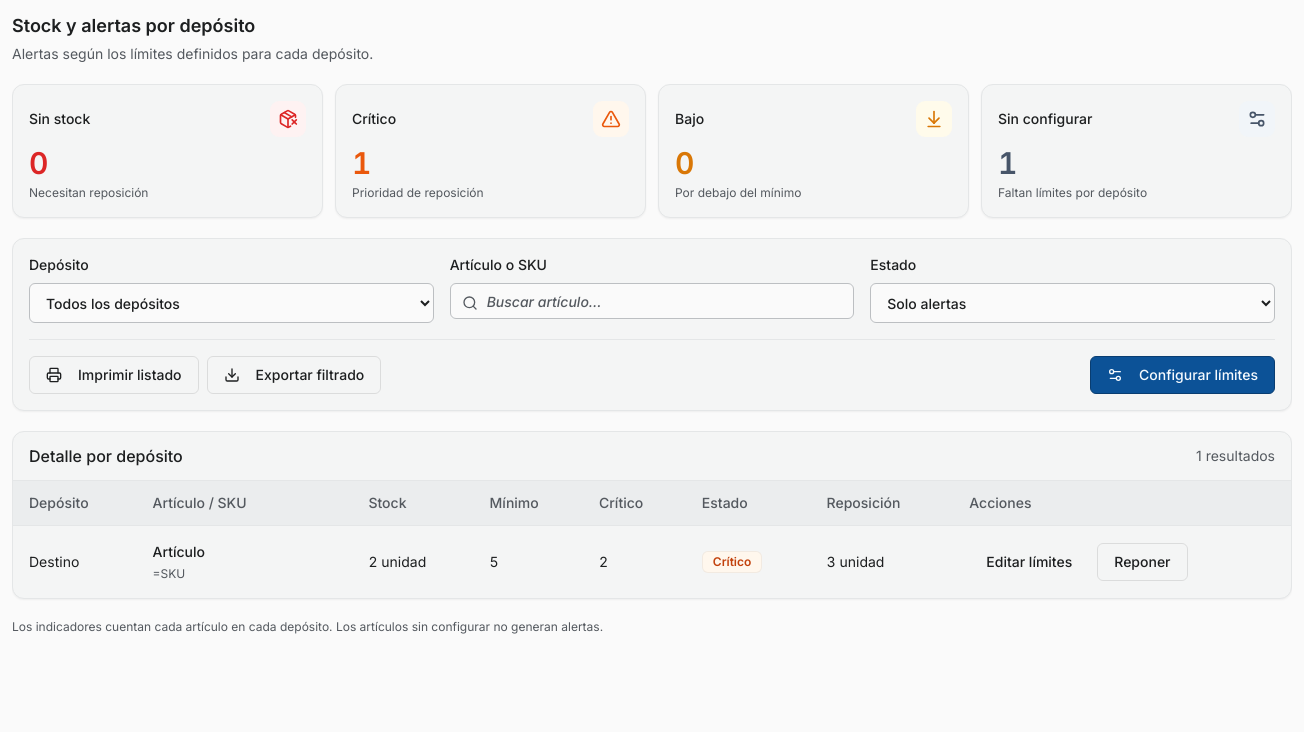
Test case: las tarjetas filtran sin modificar stock y mantienen visibles los totales del depósito
This screenshot has width=1304, height=732.
Step 1. Click the button with aria-label "Sin configurar: 1" → (1045, 118), box [981,84,1292,218]
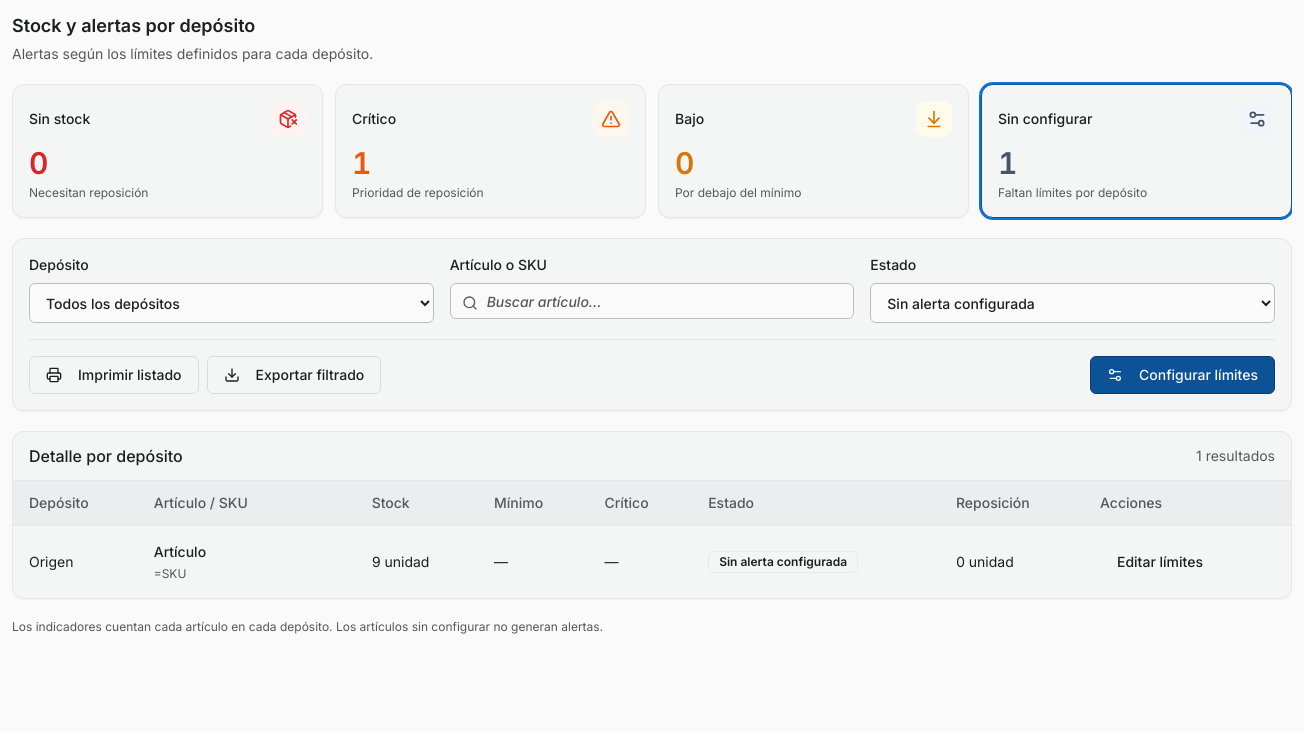
Expected: the button with aria-label "Crítico: 1" is shown, [335,84,646,218]
Expected: the cell "Origen" is shown, [13,526,138,598]
